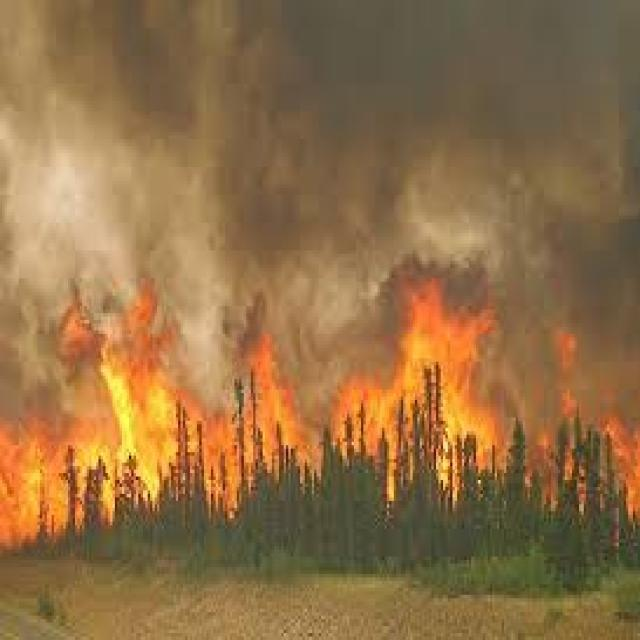Fire: (0, 277, 640, 533)
Smoke: (0, 0, 640, 278)
